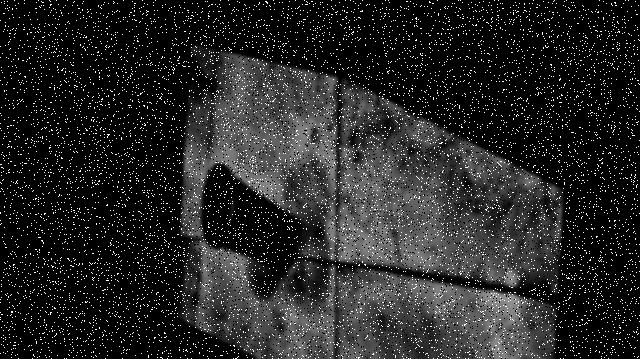pot: (202, 162, 295, 270)
